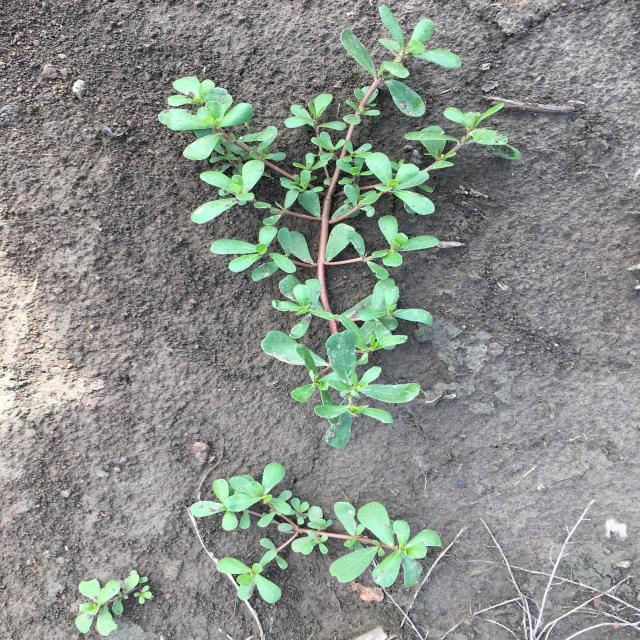Purslane: (158, 5, 522, 449), (190, 463, 442, 604), (76, 570, 152, 636)
